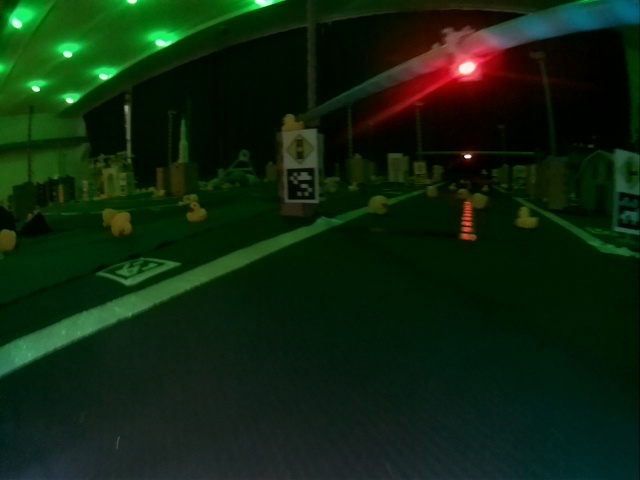Duckie: (519, 209, 539, 227), (283, 114, 305, 130), (112, 215, 128, 235), (369, 196, 386, 211), (187, 204, 205, 218), (472, 194, 487, 207)
QR code: (105, 257, 180, 286), (286, 167, 317, 202), (614, 192, 638, 232)
Signal sign: (284, 133, 315, 164)
Traffic light: (447, 30, 482, 80), (463, 151, 473, 161)
